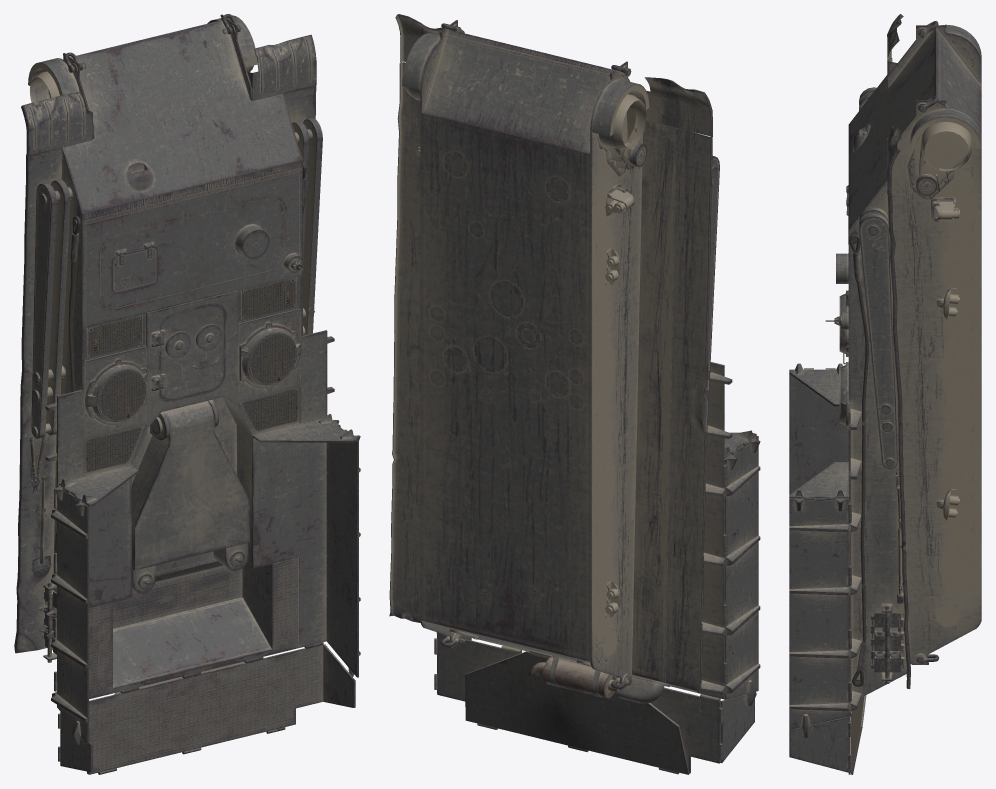
File: Hull.glb
The picture shows the model from 3 angles, left to right: view 1: azimuth 30°, elevation 25°; view 2: azimuth 150°, elevation 25°; view 3: azimuth 270°, elevation 25°; orthographic projection. The views are drawn at different scales.
Visible parts, largest first — view 1: set_0_group_0; view 2: set_0_group_0; view 3: set_0_group_0.
Part boxes in pixels (x1=…): set_0_group_0: x1=14, y1=14, x2=360, y2=774; set_0_group_0: x1=389, y1=14, x2=760, y2=774; set_0_group_0: x1=789, y1=14, x2=981, y2=774.
Bounding box in the file's own units: 3.3 × 7.46 × 1.95.
Materials: 1 (1 with a texture image).
